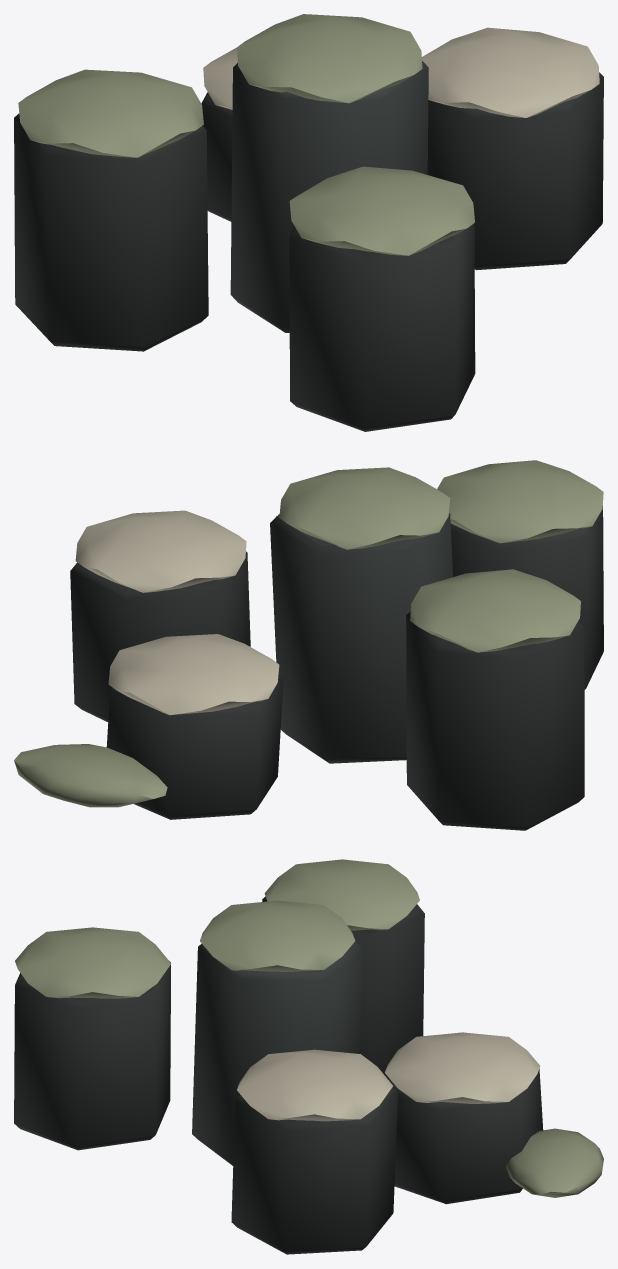
The model's file is column_stubs_a_lod1.glb.
3 renders of one model, top to bottom at view 1: azimuth 30°, elevation 25°; view 2: azimuth 150°, elevation 25°; view 3: azimuth 270°, elevation 25°, orthographic. The views are drawn at different scales.
Parts seen in each view (by area): view 1: Surface.001; view 2: Surface.001; view 3: Surface.001.
Part boxes in pixels (left/top/right/bottom): Surface.001: left=14, top=14, right=603, bottom=431; Surface.001: left=14, top=460, right=603, bottom=830; Surface.001: left=14, top=859, right=603, bottom=1254.
Size of the model in its own units: 2.86 by 1.36 by 3.19.
